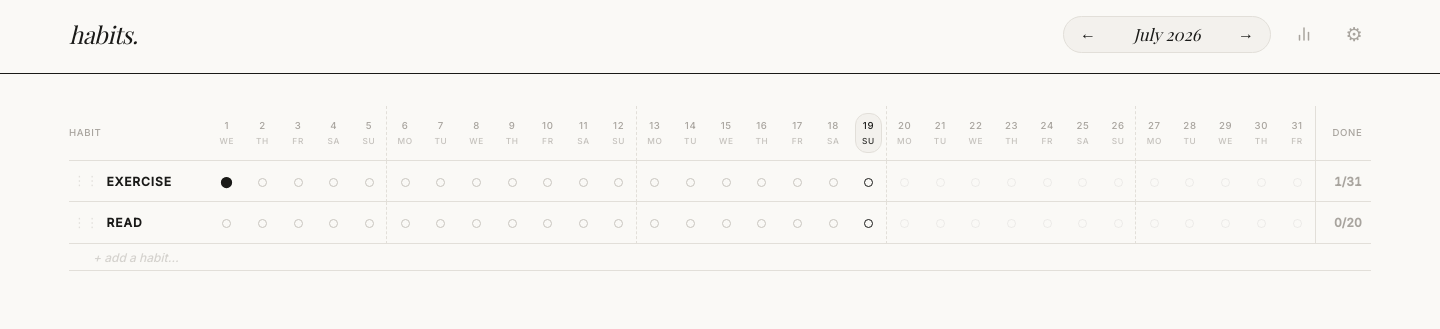
Test: HabitTracker page › submits a new habit when Enter is pressed in the ghost input
Expected: the link "Exercise" is shown, 107,172 -> 172,191
Type "Meditate" into the field with placeholder "+ add a habit…".
click(193, 258); type("Meditate")  # box 93,248 -> 293,268
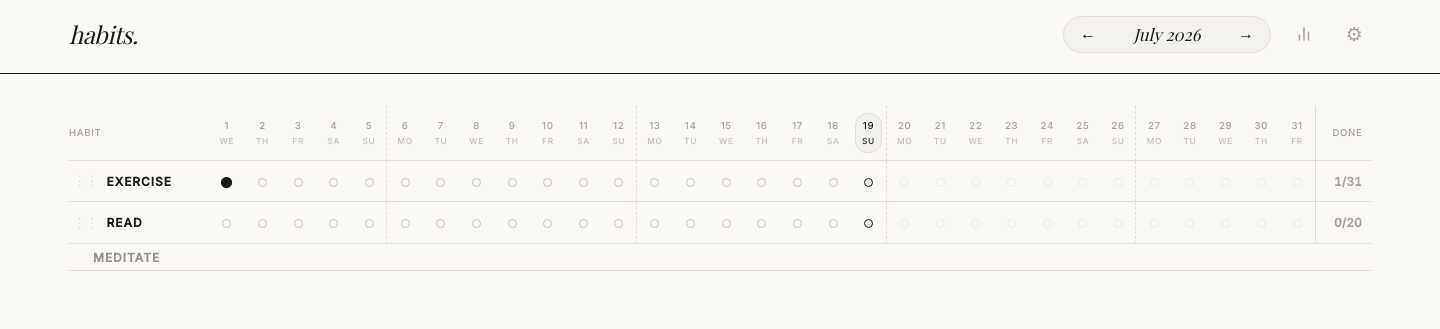
Press Enter in the field with placeholder "+ add a habit…", box 93,248 -> 293,268
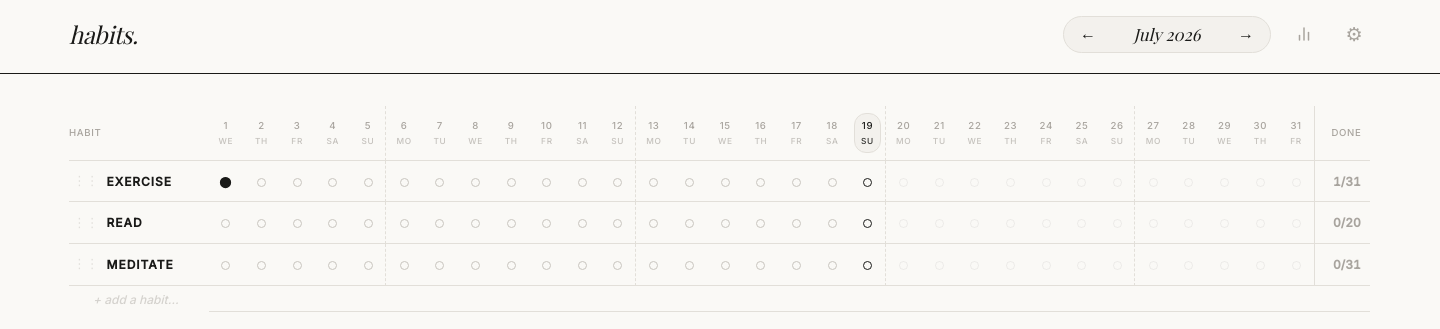
Expected: the link "Meditate" is shown, 107,255 -> 174,274
